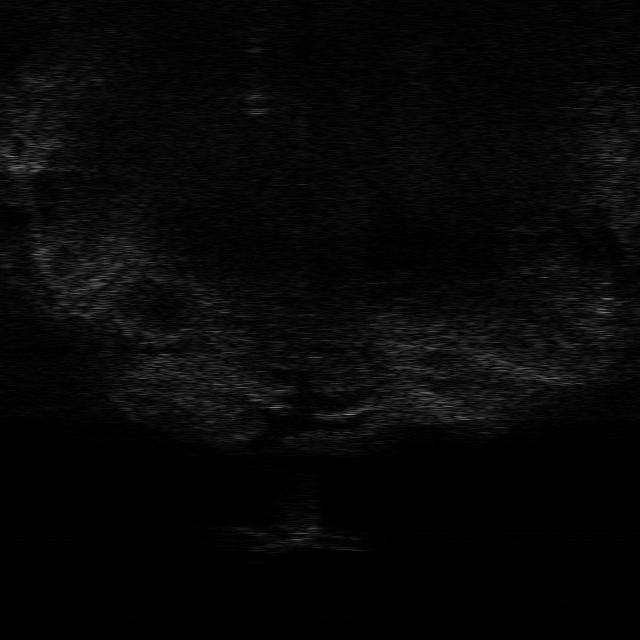plane: (229, 520, 369, 555)
